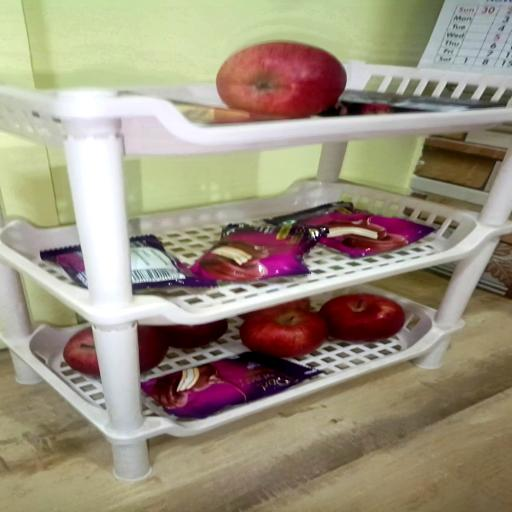Apple: (217, 41, 348, 122), (240, 306, 330, 359), (320, 294, 405, 343), (144, 320, 230, 350), (63, 328, 98, 377)
Choco Pie: (143, 352, 323, 420), (262, 204, 436, 260), (193, 224, 325, 284), (130, 236, 214, 292), (40, 247, 88, 292)
